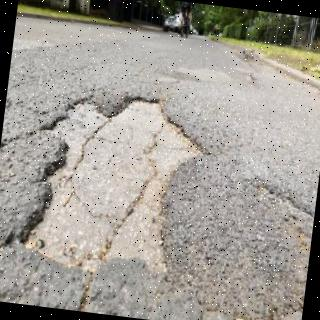pothole: (26, 102, 204, 279)
